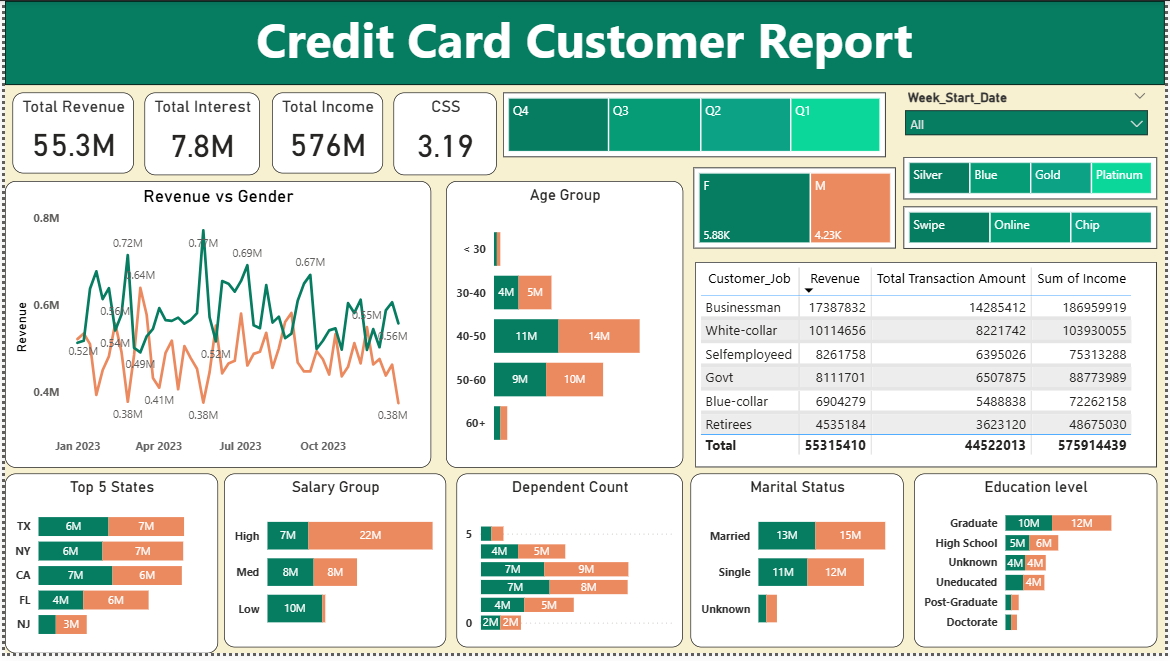

This screenshot's page, from the dashboard's own definition file:
{"tool":"powerbi","page":{"name":"Credit Card Customer","canvas":[1280,720],"ordinal":1},"visuals":[{"type":"textbox","box":[0,0,1280.5,92.8],"z":0},{"type":"barChart","title":"Top 5 States","fields":{"Y":["Sum(credit_card.Revenue)"],"Category":["customer_details.state_cd"],"Series":["customer_details.Gender"]},"box":[0,521.8,235.2,198.8],"z":1000},{"type":"tableEx","fields":{"Values":["customer_details.Customer_Job","Sum(credit_card.Revenue)","Sum(credit_card.Total_Trans_Amt)","Sum(customer_details.Income)"]},"box":[762,288.2,510.2,226.9],"z":2000},{"type":"card","title":"Total Revenue","fields":{"Values":["Sum(credit_card.Revenue)"]},"box":[8.3,101,134.2,89.4],"z":3000},{"type":"card","title":"Total Interest","fields":{"Values":["Sum(credit_card.Interest_Earned)"]},"box":[154.6,101,127.5,91.1],"z":4000},{"type":"card","title":"Total Income","fields":{"Values":["Sum(customer_details.Income)"]},"box":[294.3,101,122.6,89.4],"z":5000},{"type":"card","title":"CSS","fields":{"Values":["Avg(customer_details.Cust_Satisfaction_Score)"]},"box":[429,101,114.3,91.1],"z":6000},{"type":"treemap","fields":{"Group":["customer_details.Gender"],"Values":["CountNonNull(customer_details.Client_Num)"]},"box":[760.3,183.9,223.6,89.4],"z":7000},{"type":"treemap","fields":{"Group":["credit_card.Card_Category"],"Values":["Avg(customer_details.Client_Num)"]},"box":[992.2,172.3,279.9,46.4],"z":8000},{"type":"treemap","fields":{"Values":["Avg(credit_card.Client_Num)"],"Group":["credit_card.Use_Chip"]},"box":[992.2,226.9,279.9,46.4],"z":9000},{"type":"slicer","fields":{"Values":["credit_card.Week_Start_Date"]},"box":[983.9,92.8,288.2,72.9],"z":10000},{"type":"lineChart","title":"Revenue vs Gender","fields":{"Category":["credit_card.Week_Start_Date.Variation.Date Hierarchy.Year","credit_card.Week_Start_Date.Variation.Date Hierarchy.Month","credit_card.Week_Start_Date.Variation.Date Hierarchy.Day"],"Y":["Sum(credit_card.Revenue)"],"Series":["customer_details.Gender"]},"box":[0,198.8,470.4,316.4],"z":11000},{"type":"treemap","title":"Quarterly","fields":{"Group":["credit_card.Quarter"],"Values":["Avg(credit_card.Client_Num)"]},"box":[550,101,422.4,71.2],"z":12000},{"type":"barChart","title":"Age Group","fields":{"Y":["Sum(credit_card.Revenue)"],"Series":["customer_details.Gender"],"Category":["customer_details.Age_Group"]},"box":[487,198.8,261.7,316.4],"z":13000},{"type":"barChart","title":"Salary Group","fields":{"Y":["Sum(credit_card.Revenue)"],"Category":["customer_details.Income_Group"],"Series":["customer_details.Gender"]},"box":[241.8,521.8,245.2,192.2],"z":14000},{"type":"barChart","title":"Dependent Count","fields":{"Y":["Sum(credit_card.Revenue)"],"Category":["customer_details.Dependent_Count"],"Series":["customer_details.Gender"]},"box":[498.6,521.8,250.1,192.2],"z":15000},{"type":"barChart","title":"Marital Status","fields":{"Y":["Sum(credit_card.Revenue)"],"Category":["customer_details.Marital_Status"],"Series":["customer_details.Gender"]},"box":[757,521.8,235.2,192.2],"z":16000},{"type":"barChart","title":"Education level","fields":{"Y":["Sum(credit_card.Revenue)"],"Category":["customer_details.Education_Level"],"Series":["customer_details.Gender"]},"box":[1003.8,521.8,268.3,192.2],"z":17000}]}

Visuals, with their boxes in screenshot pixels (x1, y1, x2, y2), scaled from the page's 1280x720 canvas onto the 1170x661 screenshot:
textbox: [0, 0, 1169, 85]
"Top 5 States" barChart: [0, 479, 215, 660]
tableEx - customer_details.Customer_Job x Sum(credit_card.Revenue): [697, 265, 1163, 473]
"Total Revenue" card: [8, 93, 130, 175]
"Total Interest" card: [141, 93, 258, 176]
"Total Income" card: [269, 93, 381, 175]
"CSS" card: [392, 93, 497, 176]
treemap - customer_details.Gender x CountNonNull(customer_details.Client_Num): [695, 169, 899, 251]
treemap - credit_card.Card_Category x Avg(customer_details.Client_Num): [907, 158, 1163, 201]
treemap - Avg(credit_card.Client_Num) x credit_card.Use_Chip: [907, 208, 1163, 251]
slicer - credit_card.Week_Start_Date: [899, 85, 1163, 152]
"Revenue vs Gender" lineChart: [0, 183, 430, 473]
"Quarterly" treemap: [503, 93, 889, 158]
"Age Group" barChart: [445, 183, 684, 473]
"Salary Group" barChart: [221, 479, 445, 655]
"Dependent Count" barChart: [456, 479, 684, 655]
"Marital Status" barChart: [692, 479, 907, 655]
"Education level" barChart: [918, 479, 1163, 655]
